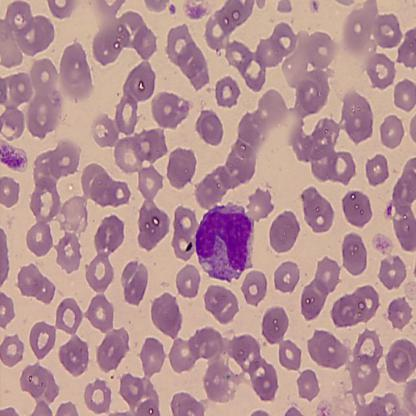Band Neutrophil: (193, 197, 256, 285)
